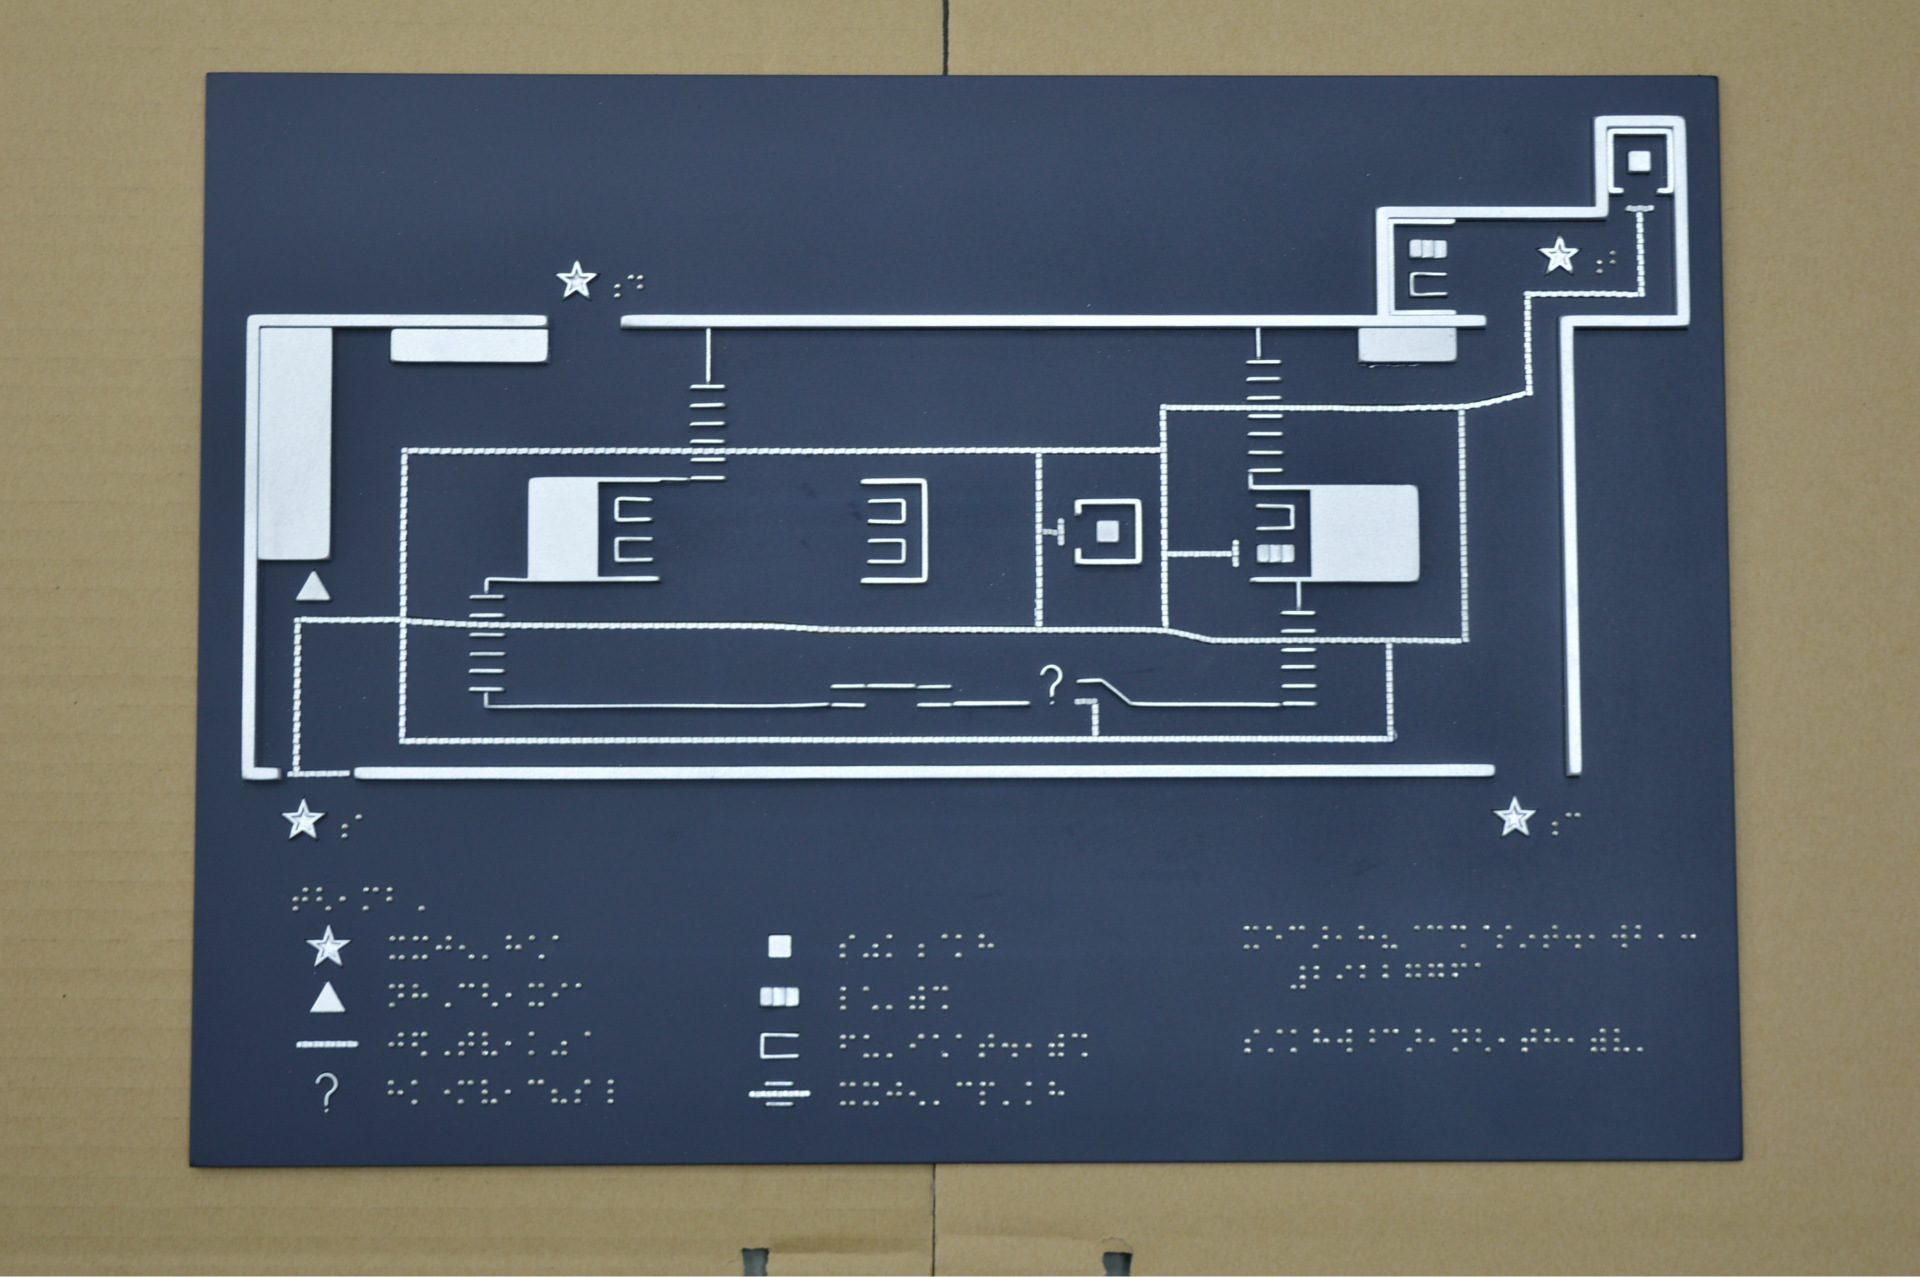Braille: (1380, 961, 1403, 993), (572, 1076, 594, 1107), (1472, 961, 1494, 993), (547, 1076, 570, 1106), (386, 932, 408, 963), (602, 271, 623, 302), (353, 810, 373, 842), (1450, 961, 1470, 993), (433, 932, 455, 962), (526, 1076, 547, 1106), (837, 932, 858, 962), (952, 931, 974, 961), (1309, 924, 1330, 953), (1448, 1026, 1470, 1056), (1582, 247, 1604, 276), (552, 932, 572, 963), (574, 1028, 594, 1059), (1494, 922, 1514, 953), (1242, 1026, 1261, 1058), (479, 934, 500, 962), (549, 1030, 570, 1059), (1311, 963, 1333, 992), (1334, 962, 1356, 991), (1425, 1028, 1447, 1056), (1611, 1026, 1632, 1055), (289, 884, 309, 914), (331, 812, 351, 842), (361, 884, 381, 914), (336, 884, 356, 914), (385, 884, 405, 914), (411, 934, 430, 963), (527, 934, 547, 963), (386, 981, 406, 1010), (433, 982, 453, 1012), (456, 1029, 476, 1059), (480, 1029, 500, 1059), (480, 1077, 500, 1107), (502, 1077, 522, 1107), (976, 931, 996, 961), (838, 983, 858, 1013), (861, 983, 881, 1013), (907, 1030, 927, 1060), (1070, 1029, 1090, 1059), (861, 1079, 881, 1109), (1048, 1077, 1068, 1107), (1242, 922, 1261, 952), (1264, 922, 1284, 952), (1403, 921, 1423, 951), (1472, 922, 1492, 952), (1564, 921, 1584, 951), (1611, 921, 1631, 951), (1633, 922, 1653, 952), (1289, 962, 1309, 992), (1358, 962, 1378, 992), (1425, 962, 1445, 992), (1266, 1026, 1286, 1056), (1311, 1026, 1331, 1056), (1404, 1026, 1424, 1056), (1474, 1026, 1494, 1056), (1497, 1026, 1517, 1056), (1541, 810, 1561, 839), (978, 1077, 996, 1109), (1658, 921, 1676, 952), (505, 934, 525, 962), (411, 981, 430, 1009), (526, 981, 546, 1009), (573, 981, 593, 1009), (456, 1077, 476, 1106), (596, 1077, 616, 1106), (931, 983, 951, 1012), (907, 1080, 927, 1109), (1001, 1080, 1021, 1109), (1289, 1028, 1309, 1056), (1381, 1026, 1401, 1055), (1519, 1026, 1539, 1055), (1567, 1028, 1586, 1056), (1633, 1026, 1653, 1055), (1606, 247, 1626, 275), (315, 884, 334, 914), (409, 884, 428, 914), (458, 981, 476, 1010), (480, 981, 499, 1010), (411, 1029, 429, 1059), (411, 1077, 429, 1107), (885, 931, 904, 961), (908, 931, 927, 961), (908, 983, 927, 1013), (955, 1030, 974, 1060), (978, 1030, 996, 1060), (1001, 1030, 1019, 1060), (1023, 1030, 1042, 1060), (1048, 1029, 1066, 1059), (1334, 924, 1353, 953), (1357, 922, 1376, 952), (1450, 922, 1468, 952), (1518, 922, 1537, 952), (1541, 921, 1559, 951), (1588, 921, 1606, 951), (1544, 1026, 1562, 1056), (1564, 808, 1582, 838), (433, 1030, 453, 1058), (838, 1080, 858, 1107), (954, 1079, 974, 1106), (1425, 922, 1445, 949), (1589, 1028, 1609, 1055), (626, 272, 646, 299), (1681, 921, 1698, 952), (459, 934, 478, 962), (505, 981, 523, 1009), (550, 981, 569, 1009), (386, 1029, 405, 1058), (861, 932, 879, 961), (931, 931, 949, 959), (861, 1032, 879, 1060), (932, 1032, 951, 1060), (885, 1079, 904, 1107), (1380, 924, 1398, 952), (1404, 962, 1423, 991), (1336, 1026, 1354, 1055), (1358, 1026, 1377, 1055), (527, 1028, 544, 1058), (386, 1077, 405, 1105), (885, 983, 904, 1010), (838, 1032, 857, 1059), (885, 1032, 904, 1059), (932, 1080, 951, 1107), (505, 1029, 522, 1058), (435, 1077, 452, 1106), (1023, 1079, 1041, 1107), (1289, 924, 1306, 952)
